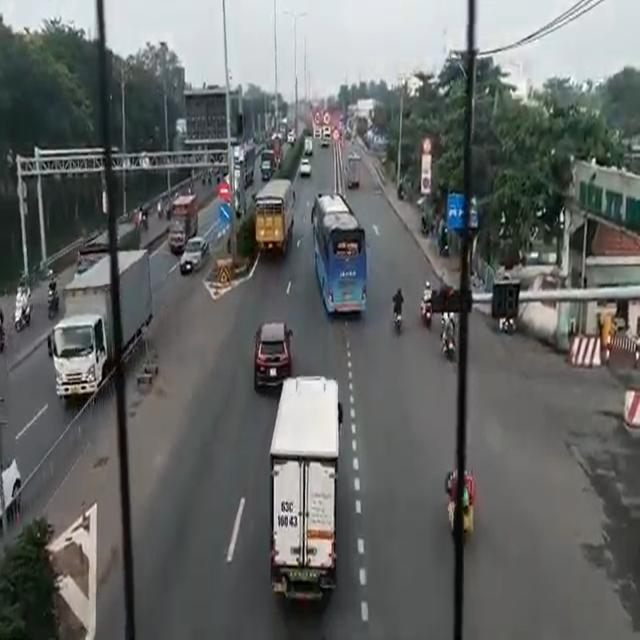bus: (312, 188, 372, 316)
car: (255, 314, 288, 388), (182, 238, 212, 277), (296, 157, 311, 175)
motor: (390, 287, 403, 340), (418, 279, 431, 328), (443, 317, 455, 360)
truck: (51, 248, 145, 407), (279, 378, 332, 608), (257, 180, 294, 256), (168, 198, 196, 244)
